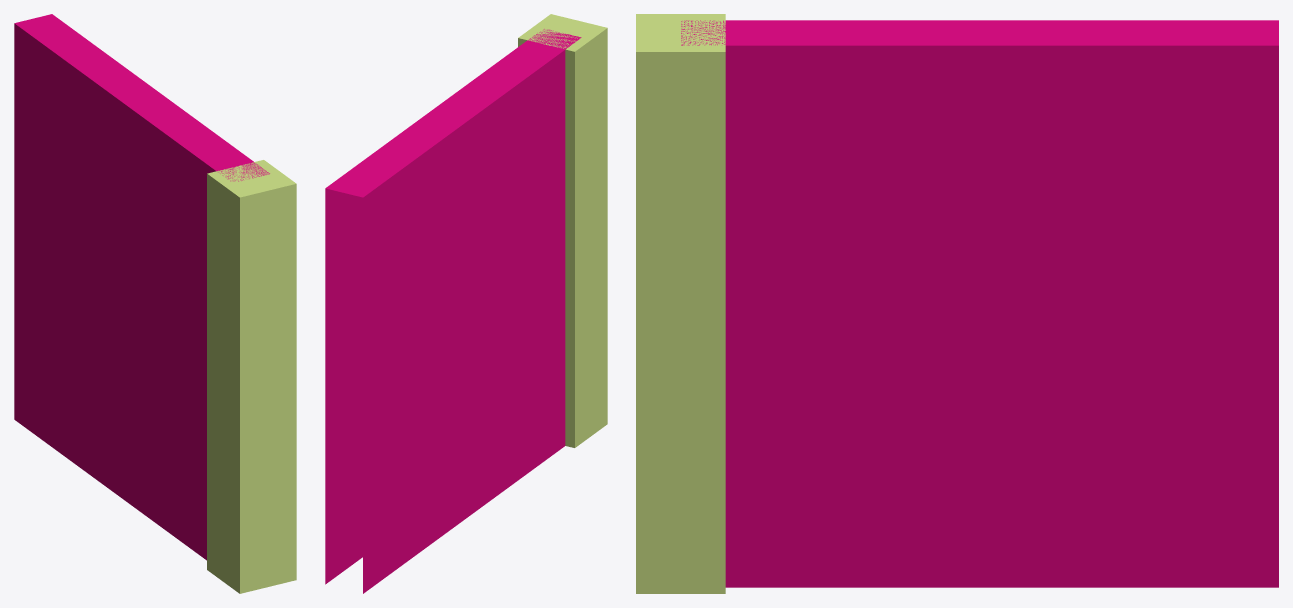
File: Wall.fbx
The picture shows the model from 3 angles, left to right: view 1: azimuth 30°, elevation 25°; view 2: azimuth 150°, elevation 25°; view 3: azimuth 270°, elevation 25°; orthographic projection. The views are drawn at different scales.
Parts seen in each view (by area): view 1: Wall2; view 2: Wall2; view 3: Wall2.
Boxes of the visible parts, x1,y1,x2,y2 form: Wall2: [14, 14, 296, 593]; Wall2: [325, 14, 607, 593]; Wall2: [636, 14, 1278, 593].
Size of the model in its own units: 30 by 200 by 215.
